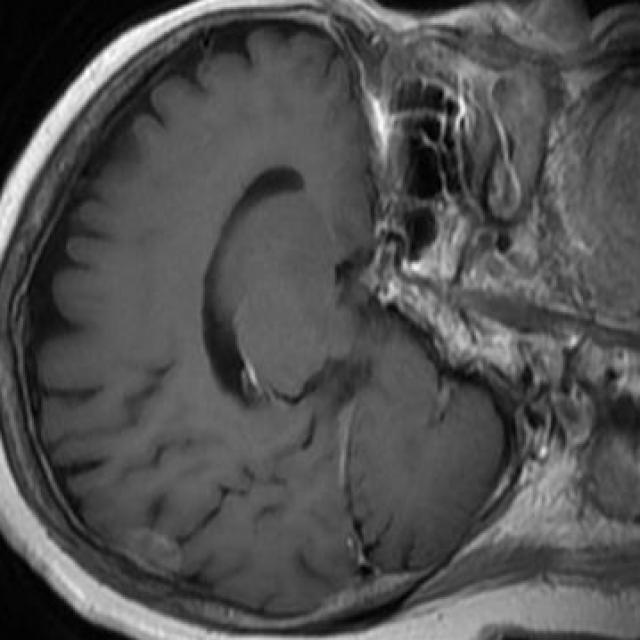meningioma: (127, 535, 178, 579)
